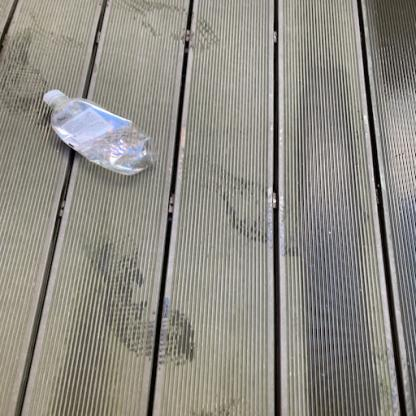trash: (43, 90, 158, 180)
